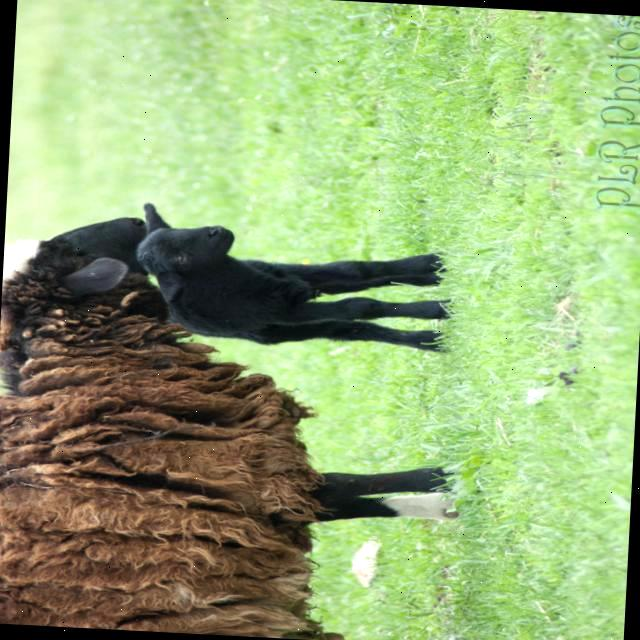sheep: (0, 219, 458, 640), (134, 203, 450, 353)
